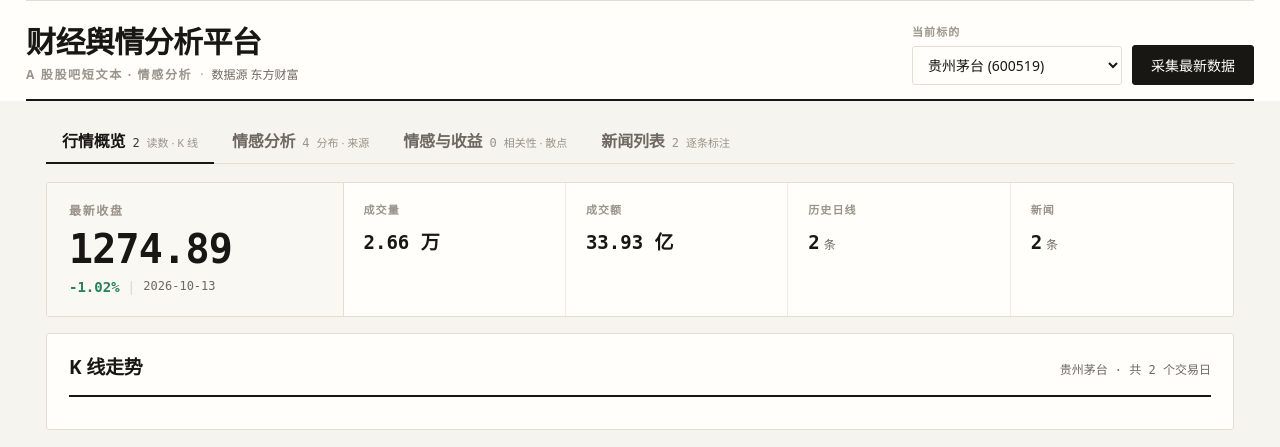
Test: 情感与收益面板 › 没有配对样本时给出说明而不是空图
The image size is (1280, 447).
Click the tab "情感与收益 0 相关性 · 散点". click: (485, 141)
box: x1=387 y1=119 x2=583 y2=163
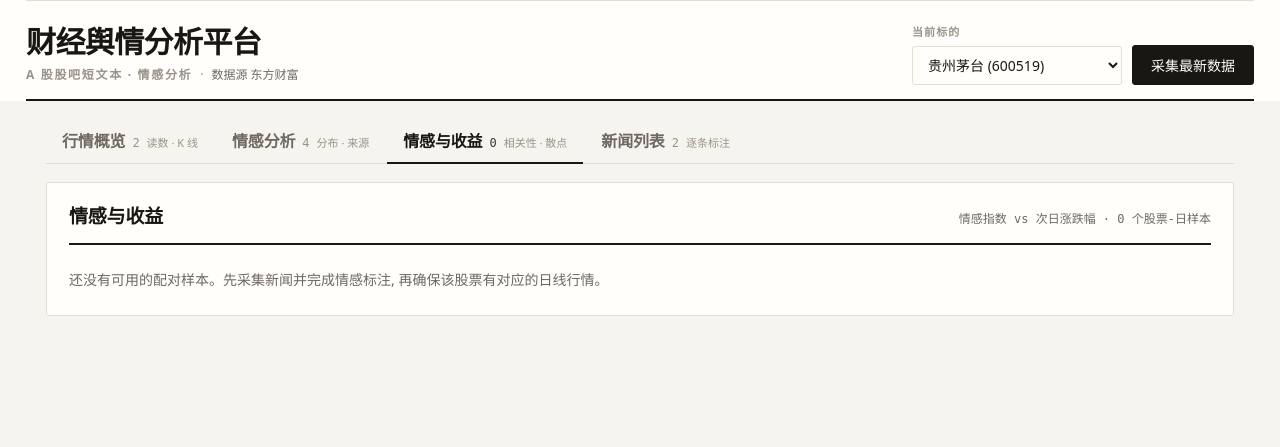
Result: the text "还没有可用的配对样本" is shown at x1=69 y1=270 x2=608 y2=289
